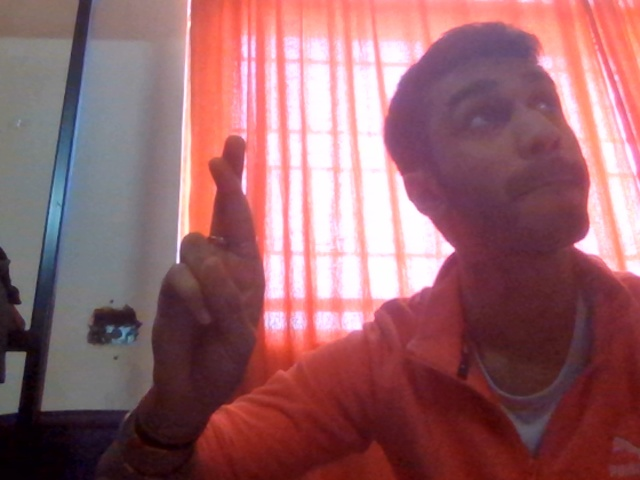R: (112, 104, 318, 462)
